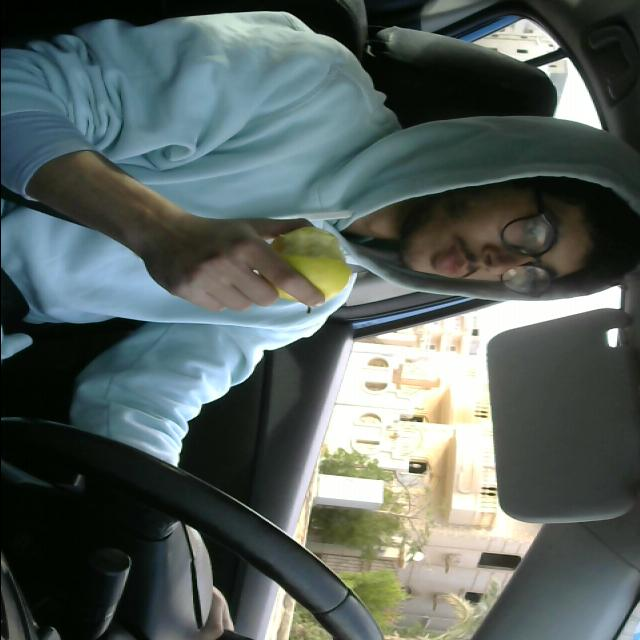eating: (268, 220, 360, 296)
